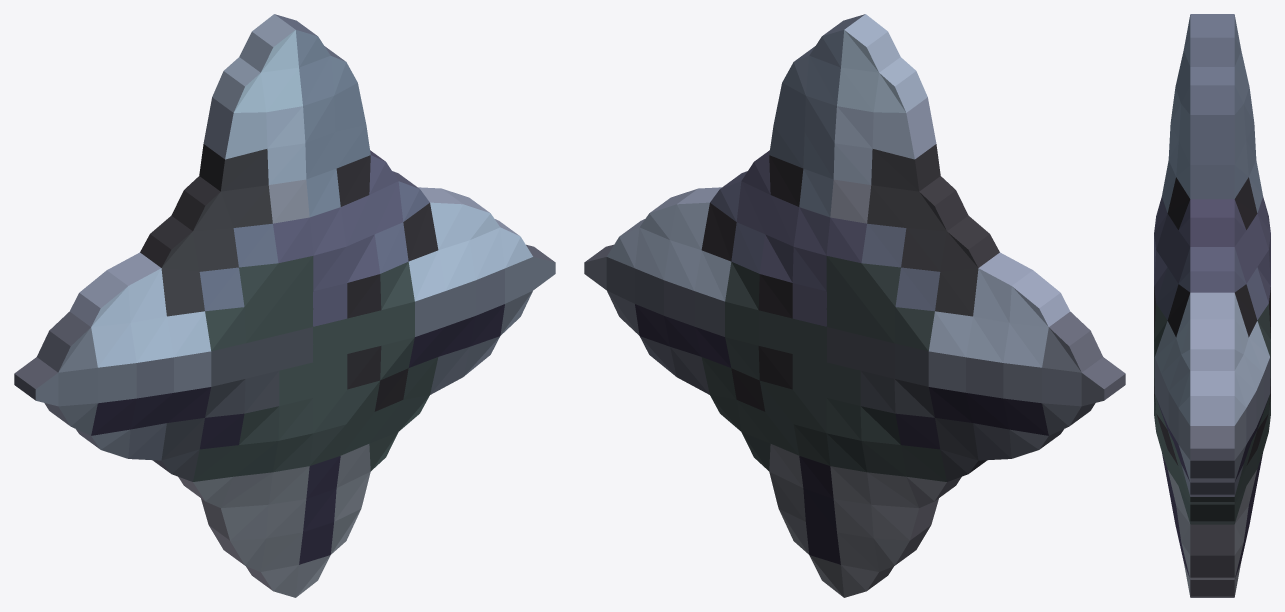
The model's file is spike_trap.glb.
The picture shows the model from 3 angles, left to right: view 1: azimuth 30°, elevation 25°; view 2: azimuth 150°, elevation 25°; view 3: azimuth 270°, elevation 25°; orthographic projection. The views are drawn at different scales.
Visible parts, largest first — view 1: spike_trap; view 2: spike_trap; view 3: spike_trap.
Part boxes in pixels (x1,y1,x2,y2): spike_trap: (14, 14, 555, 597); spike_trap: (584, 14, 1125, 597); spike_trap: (1154, 14, 1270, 597).
Size of the model in its own units: 0.9575 by 1 by 0.1813.
1 material, 1 textured.
